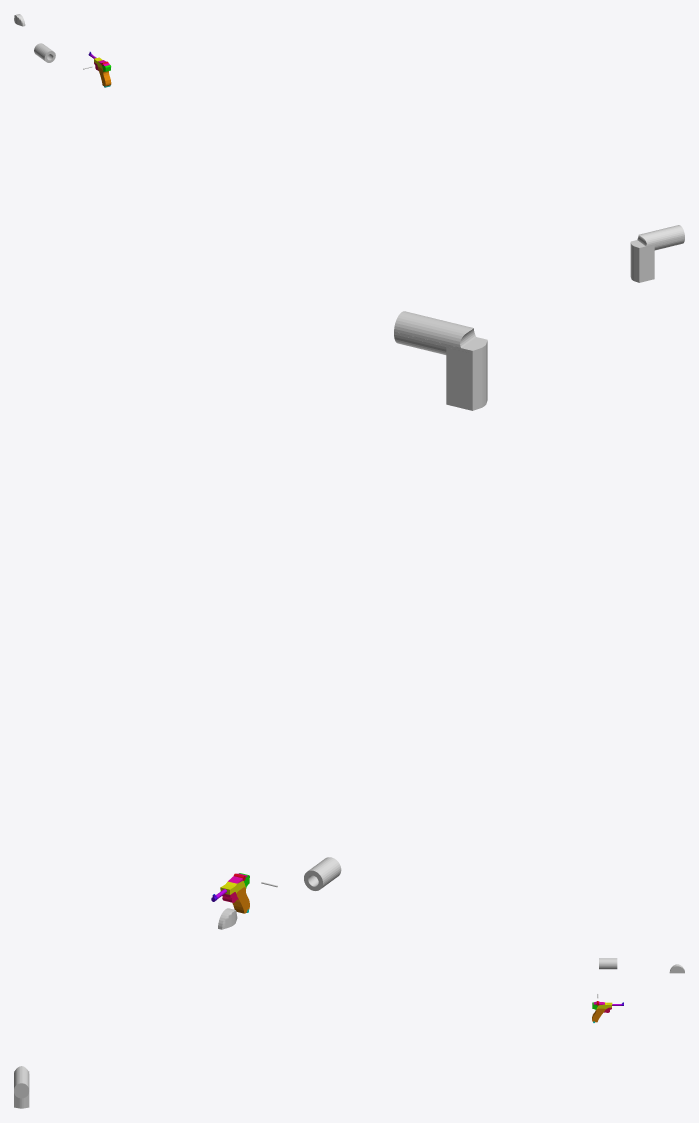
File: Guntake2.fbx
The picture shows the model from 3 angles, top to bottom: view 1: azimuth 30°, elevation 25°; view 2: azimuth 150°, elevation 25°; view 3: azimuth 270°, elevation 25°; orthographic projection. The views are drawn at different scales.
Visible parts, largest first — view 1: Cube, Cylinder; view 2: Cube, Cylinder; view 3: Cylinder.
Part boxes in pixels (x1=…): Cube: x1=630, y1=244, x2=654, y2=282; Cylinder: x1=637, y1=225, x2=684, y2=246; Cube: x1=446, y1=343, x2=487, y2=410; Cylinder: x1=394, y1=311, x2=475, y2=347; Cylinder: x1=14, y1=1066, x2=29, y2=1090.
Bounding box in the file's own units: 3926 × 586 × 8824.
